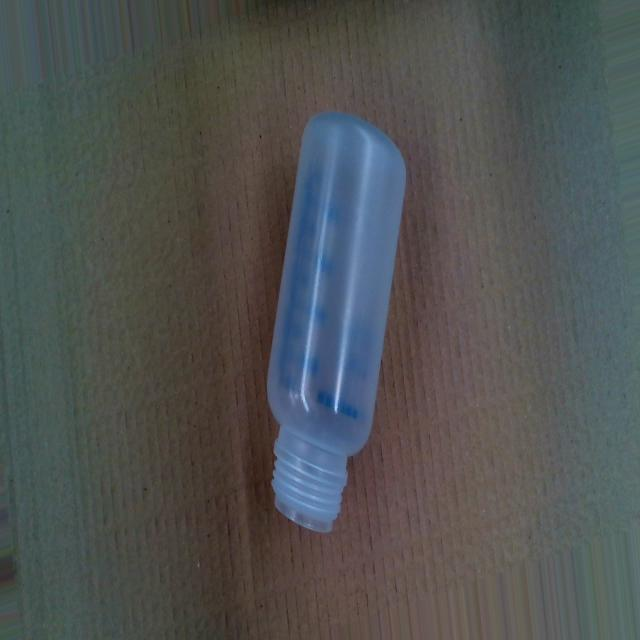bottle: (263, 106, 412, 541)
